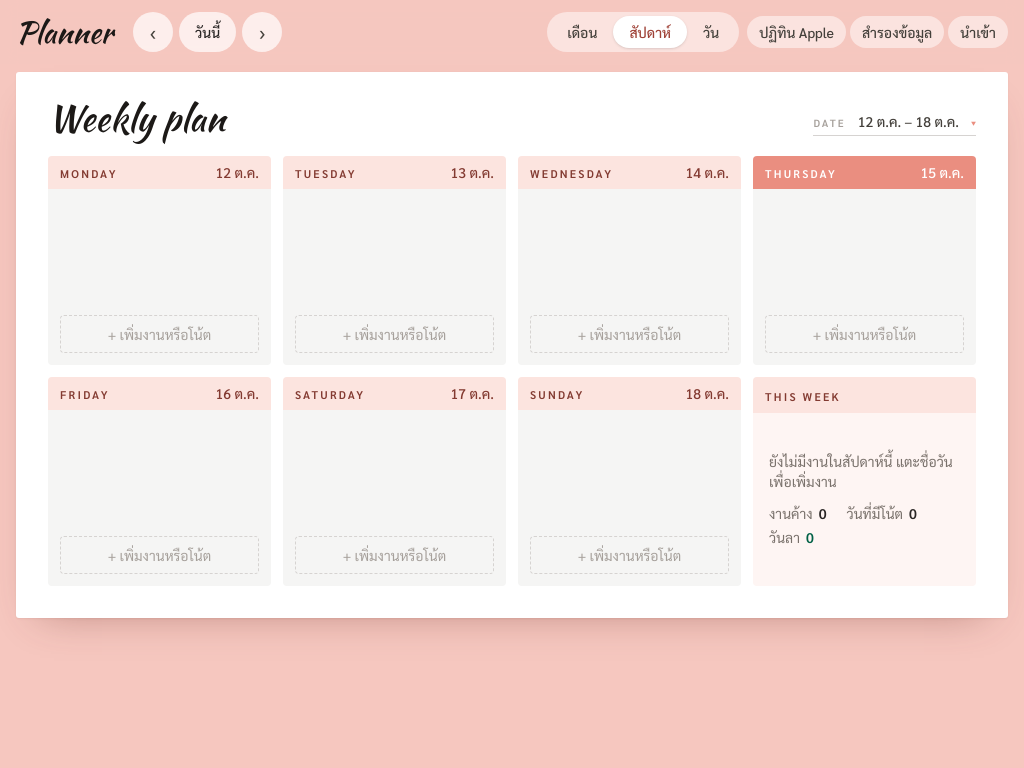
Scenario: App › shows the handwriting page with its tools
The width and height of the screenshot is (1024, 768).
Step 1. Click the button "วัน" → (711, 32), box [687, 16, 735, 48]
(page scrolled)
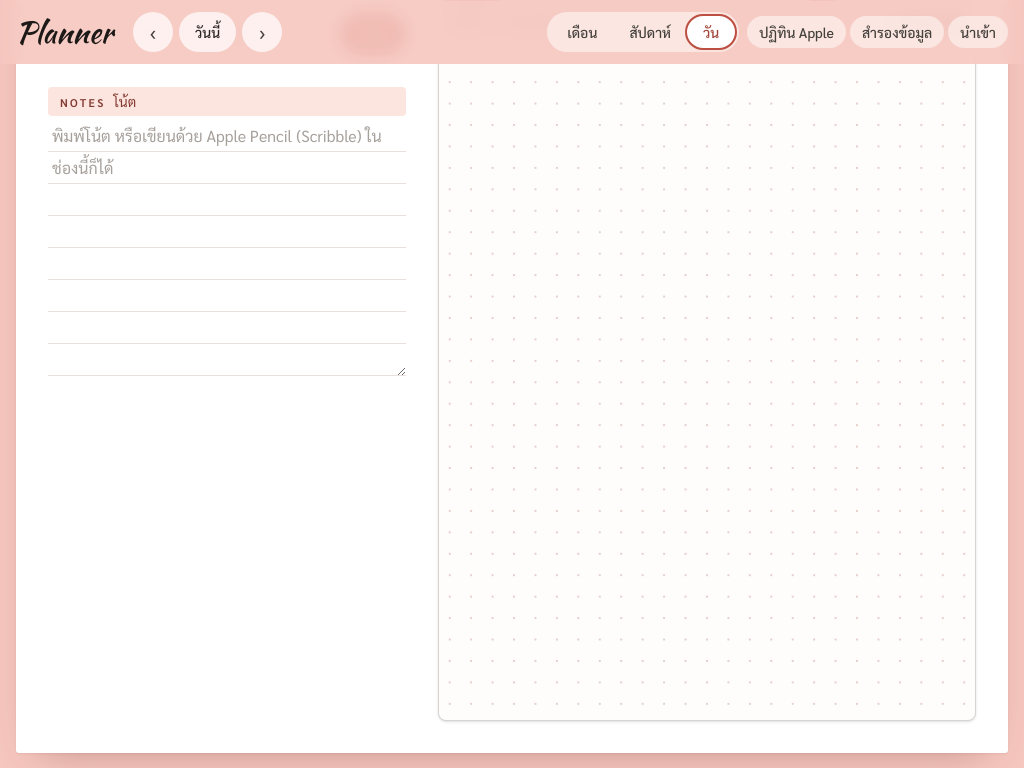
Now the drawing named "หน้าเขียนด้วยลายมือ" is shown, box [438, 49, 976, 721]
